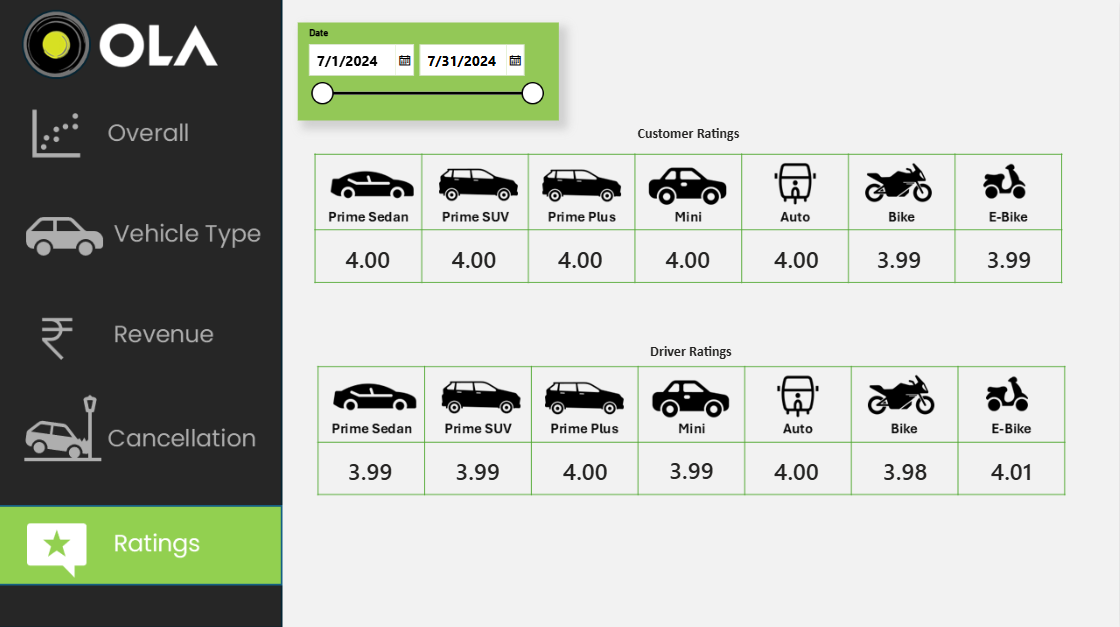

The dashboard page shown, as its layout file describes it:
{"tool":"powerbi","page":{"name":"Ratings","canvas":[1280,720],"ordinal":4},"visuals":[{"type":"actionButton","box":[0,220,325.7,94.3],"z":0},{"type":"actionButton","box":[0,342.9,325.7,90],"z":1000},{"type":"actionButton","box":[0,457.1,325.7,90],"z":2000},{"type":"actionButton","box":[0,111.4,325.7,90],"z":3000},{"type":"cardVisual","fields":{"Data":["Avg(Bookings.Customer_Rating)"]},"box":[362.5,265,117.5,55],"z":4000},{"type":"cardVisual","fields":{"Data":["Avg(Bookings.Customer_Rating)"]},"box":[483.8,265,117.5,55],"z":5000},{"type":"cardVisual","fields":{"Data":["Avg(Bookings.Customer_Rating)"]},"box":[606.2,265,117.5,55],"z":6000},{"type":"cardVisual","fields":{"Data":["Avg(Bookings.Customer_Rating)"]},"box":[728.8,265,117.5,55],"z":7000},{"type":"cardVisual","fields":{"Data":["Avg(Bookings.Customer_Rating)"]},"box":[852.5,265,117.5,55],"z":8000},{"type":"cardVisual","fields":{"Data":["Avg(Bookings.Customer_Rating)"]},"box":[970,265,117.5,55],"z":9000},{"type":"cardVisual","fields":{"Data":["Avg(Bookings.Customer_Rating)"]},"box":[1095,265,117.5,55],"z":10000},{"type":"cardVisual","fields":{"Data":["Avg(Bookings.Driver_Ratings)"]},"box":[366.2,508.8,117.5,55],"z":11000},{"type":"cardVisual","fields":{"Data":["Avg(Bookings.Driver_Ratings)"]},"box":[488.8,508.8,117.5,55],"z":12000},{"type":"cardVisual","fields":{"Data":["Avg(Bookings.Driver_Ratings)"]},"box":[611.2,508.8,117.5,55],"z":13000},{"type":"cardVisual","fields":{"Data":["Avg(Bookings.Driver_Ratings)"]},"box":[732.5,507.5,117.5,55],"z":14000},{"type":"cardVisual","fields":{"Data":["Avg(Bookings.Driver_Ratings)"]},"box":[852.5,508.8,117.5,55],"z":15000},{"type":"cardVisual","fields":{"Data":["Avg(Bookings.Driver_Ratings)"]},"box":[977.5,508.8,117.5,55],"z":16000},{"type":"cardVisual","fields":{"Data":["Avg(Bookings.Driver_Ratings)"]},"box":[1098.8,508.8,117.5,55],"z":17000},{"type":"textbox","box":[712.5,137.5,150,37.5],"z":18000},{"type":"textbox","box":[716.2,387.5,150,35],"z":18001},{"type":"slicer","fields":{"Values":["Bookings.Date"]},"box":[342,26,298,112],"z":18002}]}

Visuals, with their boxes on the page's 1280x720 design canvas (x1, y1, x2, y2). These are canvas units, not pixel positions in the 1120x627 screenshot, which may show the page scaled, cropped or inside an application window:
actionButton: <region>0, 220, 326, 314</region>
actionButton: <region>0, 343, 326, 433</region>
actionButton: <region>0, 457, 326, 547</region>
actionButton: <region>0, 111, 326, 201</region>
cardVisual - Avg(Bookings.Customer_Rating): <region>362, 265, 480, 320</region>
cardVisual - Avg(Bookings.Customer_Rating): <region>484, 265, 601, 320</region>
cardVisual - Avg(Bookings.Customer_Rating): <region>606, 265, 724, 320</region>
cardVisual - Avg(Bookings.Customer_Rating): <region>729, 265, 846, 320</region>
cardVisual - Avg(Bookings.Customer_Rating): <region>852, 265, 970, 320</region>
cardVisual - Avg(Bookings.Customer_Rating): <region>970, 265, 1088, 320</region>
cardVisual - Avg(Bookings.Customer_Rating): <region>1095, 265, 1212, 320</region>
cardVisual - Avg(Bookings.Driver_Ratings): <region>366, 509, 484, 564</region>
cardVisual - Avg(Bookings.Driver_Ratings): <region>489, 509, 606, 564</region>
cardVisual - Avg(Bookings.Driver_Ratings): <region>611, 509, 729, 564</region>
cardVisual - Avg(Bookings.Driver_Ratings): <region>732, 508, 850, 562</region>
cardVisual - Avg(Bookings.Driver_Ratings): <region>852, 509, 970, 564</region>
cardVisual - Avg(Bookings.Driver_Ratings): <region>978, 509, 1095, 564</region>
cardVisual - Avg(Bookings.Driver_Ratings): <region>1099, 509, 1216, 564</region>
textbox: <region>712, 138, 862, 175</region>
textbox: <region>716, 388, 866, 422</region>
slicer - Bookings.Date: <region>342, 26, 640, 138</region>
